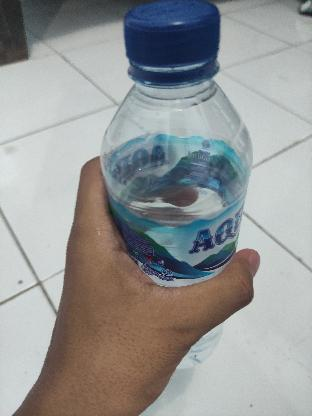Plastic Bottle: (100, 0, 256, 369)
